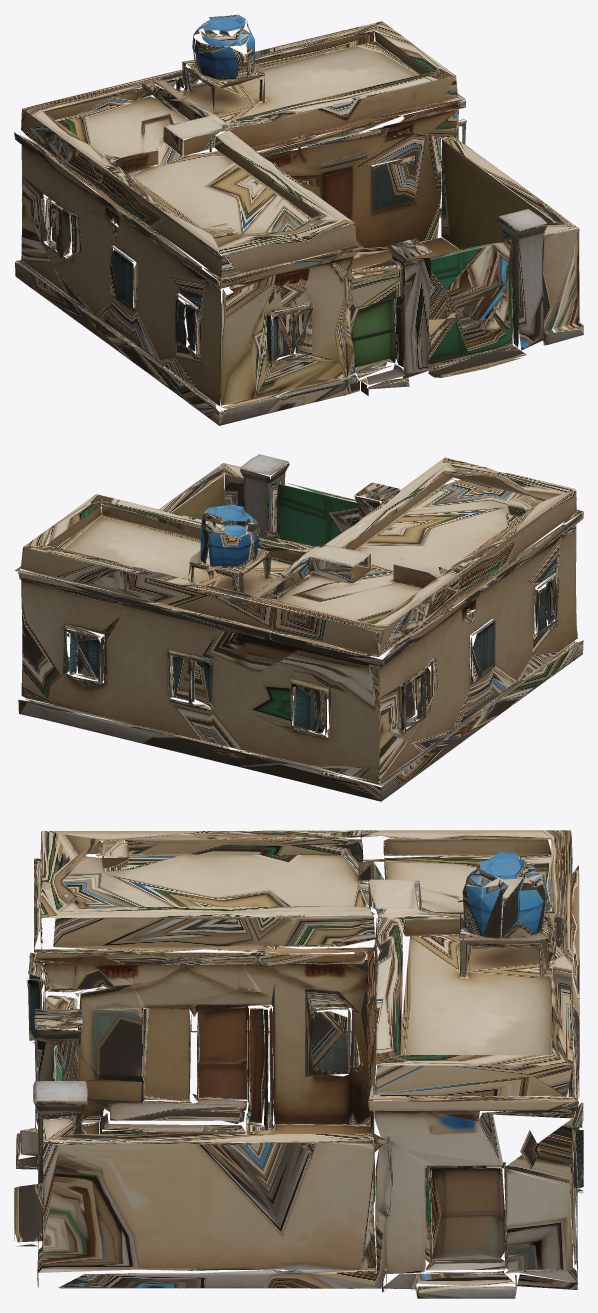
The model's file is sudanese_compound.glb.
3 views of the same model, one above another, from view 1: azimuth 30°, elevation 25°; view 2: azimuth 150°, elevation 25°; view 3: azimuth 270°, elevation 25° (orthographic). The views are drawn at different scales.
Visible parts, largest first — view 1: world; view 2: world; view 3: world.
Part boxes in pixels (bbox=[...]): world: bbox=[14, 14, 583, 425]; world: bbox=[15, 454, 583, 801]; world: bbox=[14, 830, 583, 1298].
Size of the model in its own units: 0.9968 by 0.5729 by 0.9676.
1 material, 1 textured.
